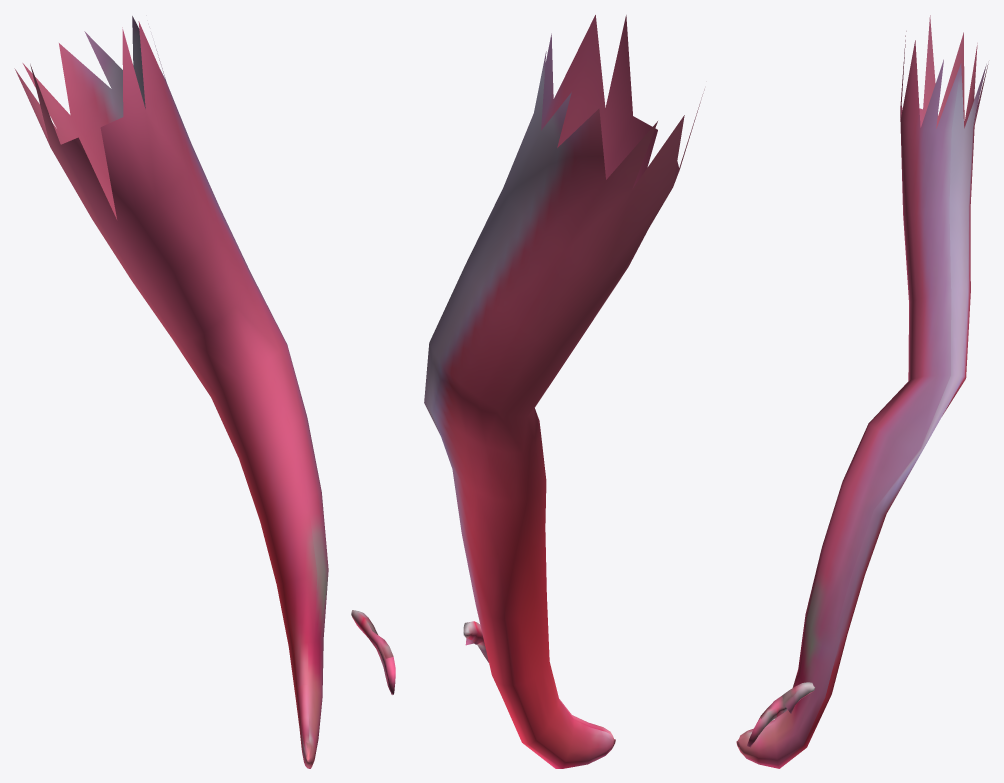
File: Punta1.obj
The picture shows the model from 3 angles, left to right: view 1: azimuth 30°, elevation 25°; view 2: azimuth 150°, elevation 25°; view 3: azimuth 270°, elevation 25°; orthographic projection. The views are drawn at different scales.
Parts seen in each view (by area): view 1: Punta1; view 2: Punta1; view 3: Punta1.
Part boxes in pixels (bbox=[...]): Punta1: bbox=[14, 16, 395, 768]; Punta1: bbox=[424, 15, 704, 768]; Punta1: bbox=[736, 15, 988, 768].
Bounding box in the file's own units: 6.31 × 15.5 × 5.2.
